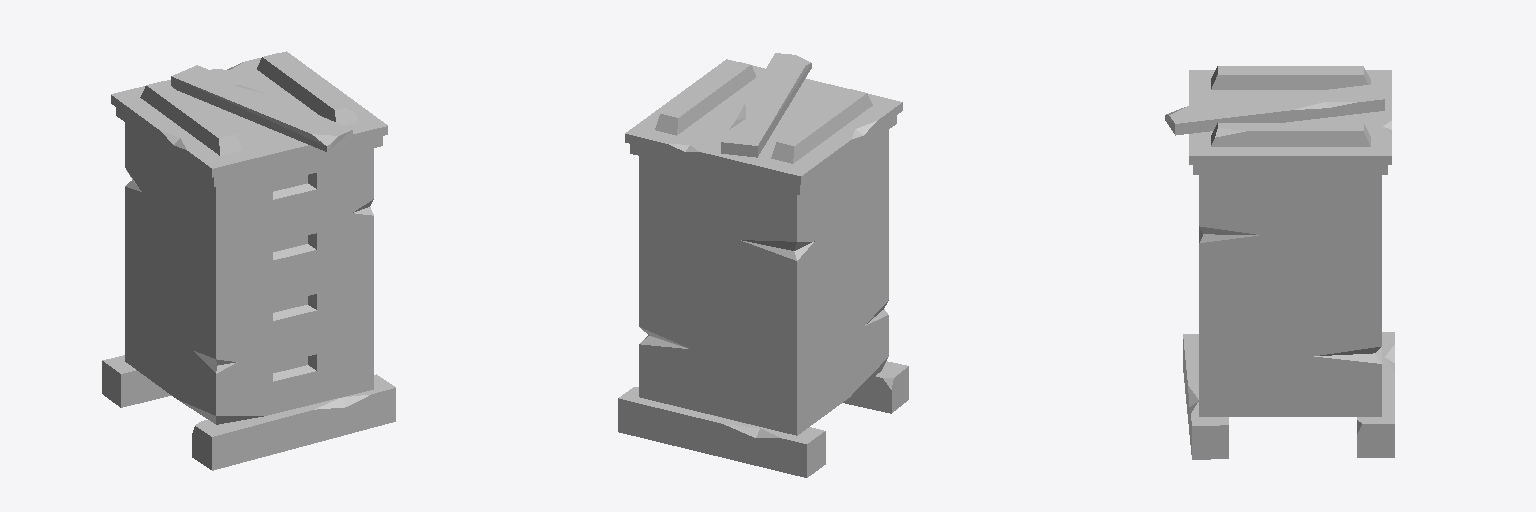
Rendered from SM_Prop_Beehive_01.obj.
3 views of the same model, side by side, from view 1: azimuth 30°, elevation 25°; view 2: azimuth 150°, elevation 25°; view 3: azimuth 270°, elevation 25° (orthographic).
Bounding box in the file's own units: 77.53 × 121 × 79.96.